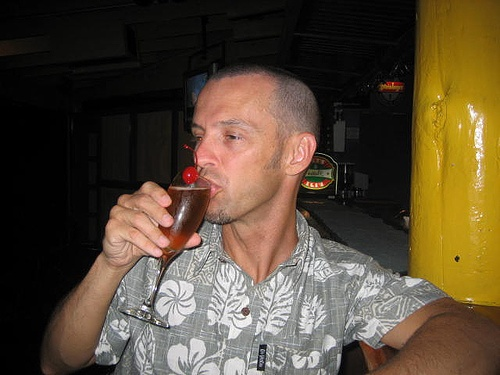head: (191, 67, 320, 226)
person: (44, 58, 493, 375)
